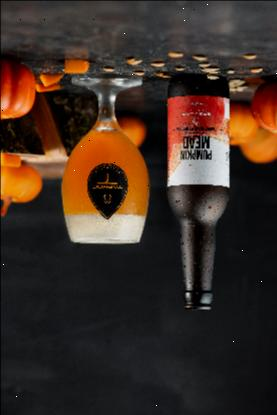Others: (167, 74, 230, 310), (62, 74, 149, 244)
